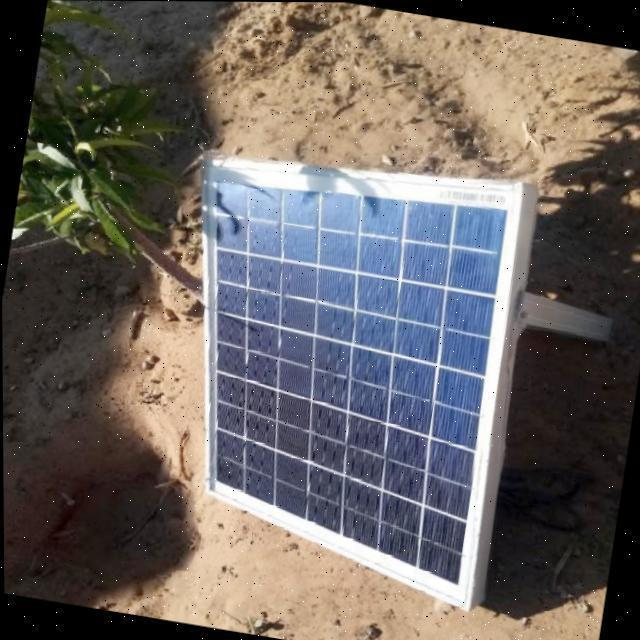Normal Solar Panel: (142, 130, 539, 612)
